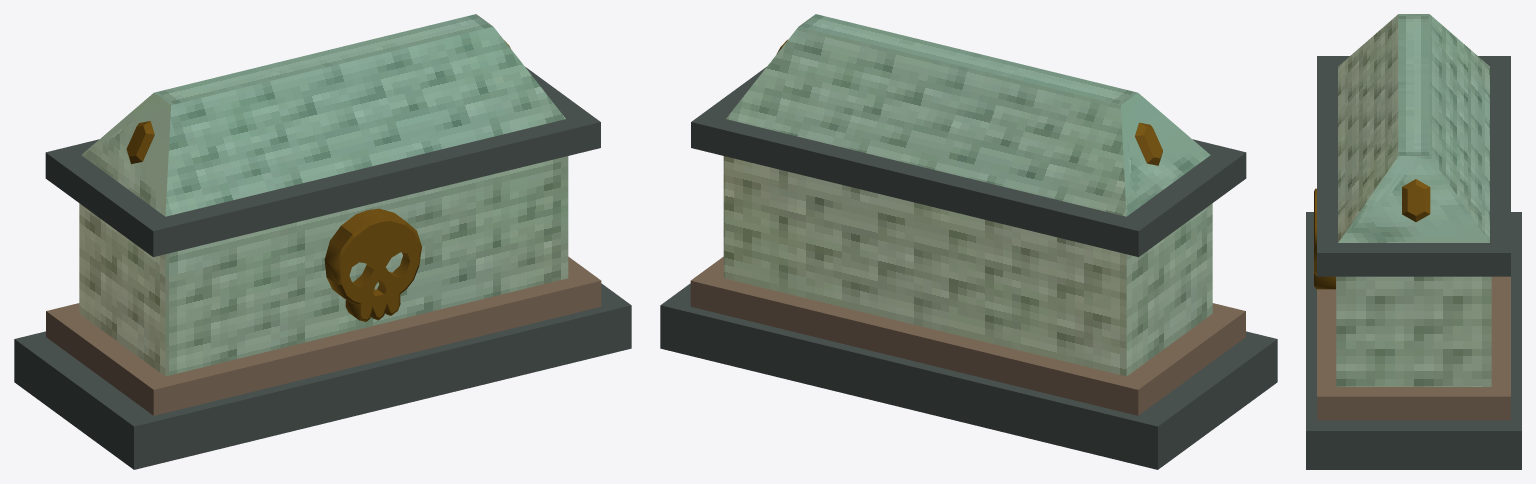
File: retroPaddle.glb
3 renders of one model, left to right at view 1: azimuth 30°, elevation 25°; view 2: azimuth 150°, elevation 25°; view 3: azimuth 270°, elevation 25°, orthographic. The views are drawn at different scales.
Visible parts, largest first — view 1: Cube.342; view 2: Cube.342; view 3: Cube.342.
Part boxes in pixels (x1,y1,x2,y2): Cube.342: [14, 14, 631, 469]; Cube.342: [660, 14, 1277, 469]; Cube.342: [1306, 14, 1521, 469].
Bounding box in the file's own units: 4.8 × 2.82 × 2.
